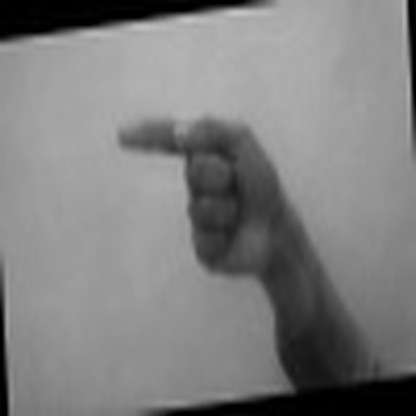g: (112, 111, 308, 280)
